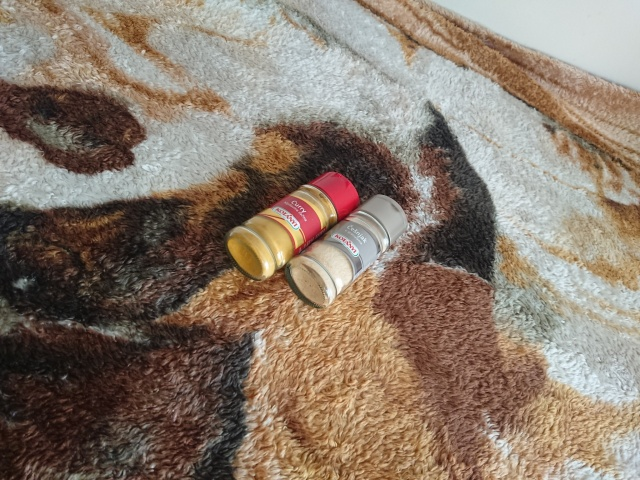Kotanyi Curry Spices Mix 70g: (222, 170, 364, 284)
Kotanyi Garlic Granules 70g: (281, 191, 410, 310)
